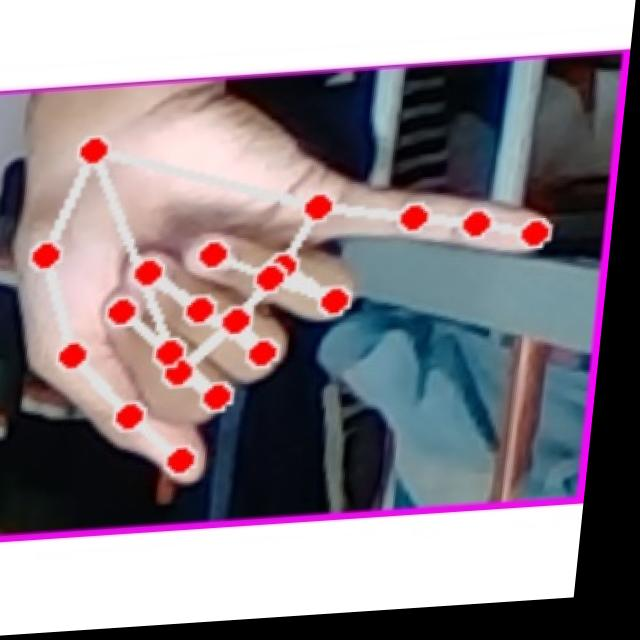J: (0, 85, 588, 518)
